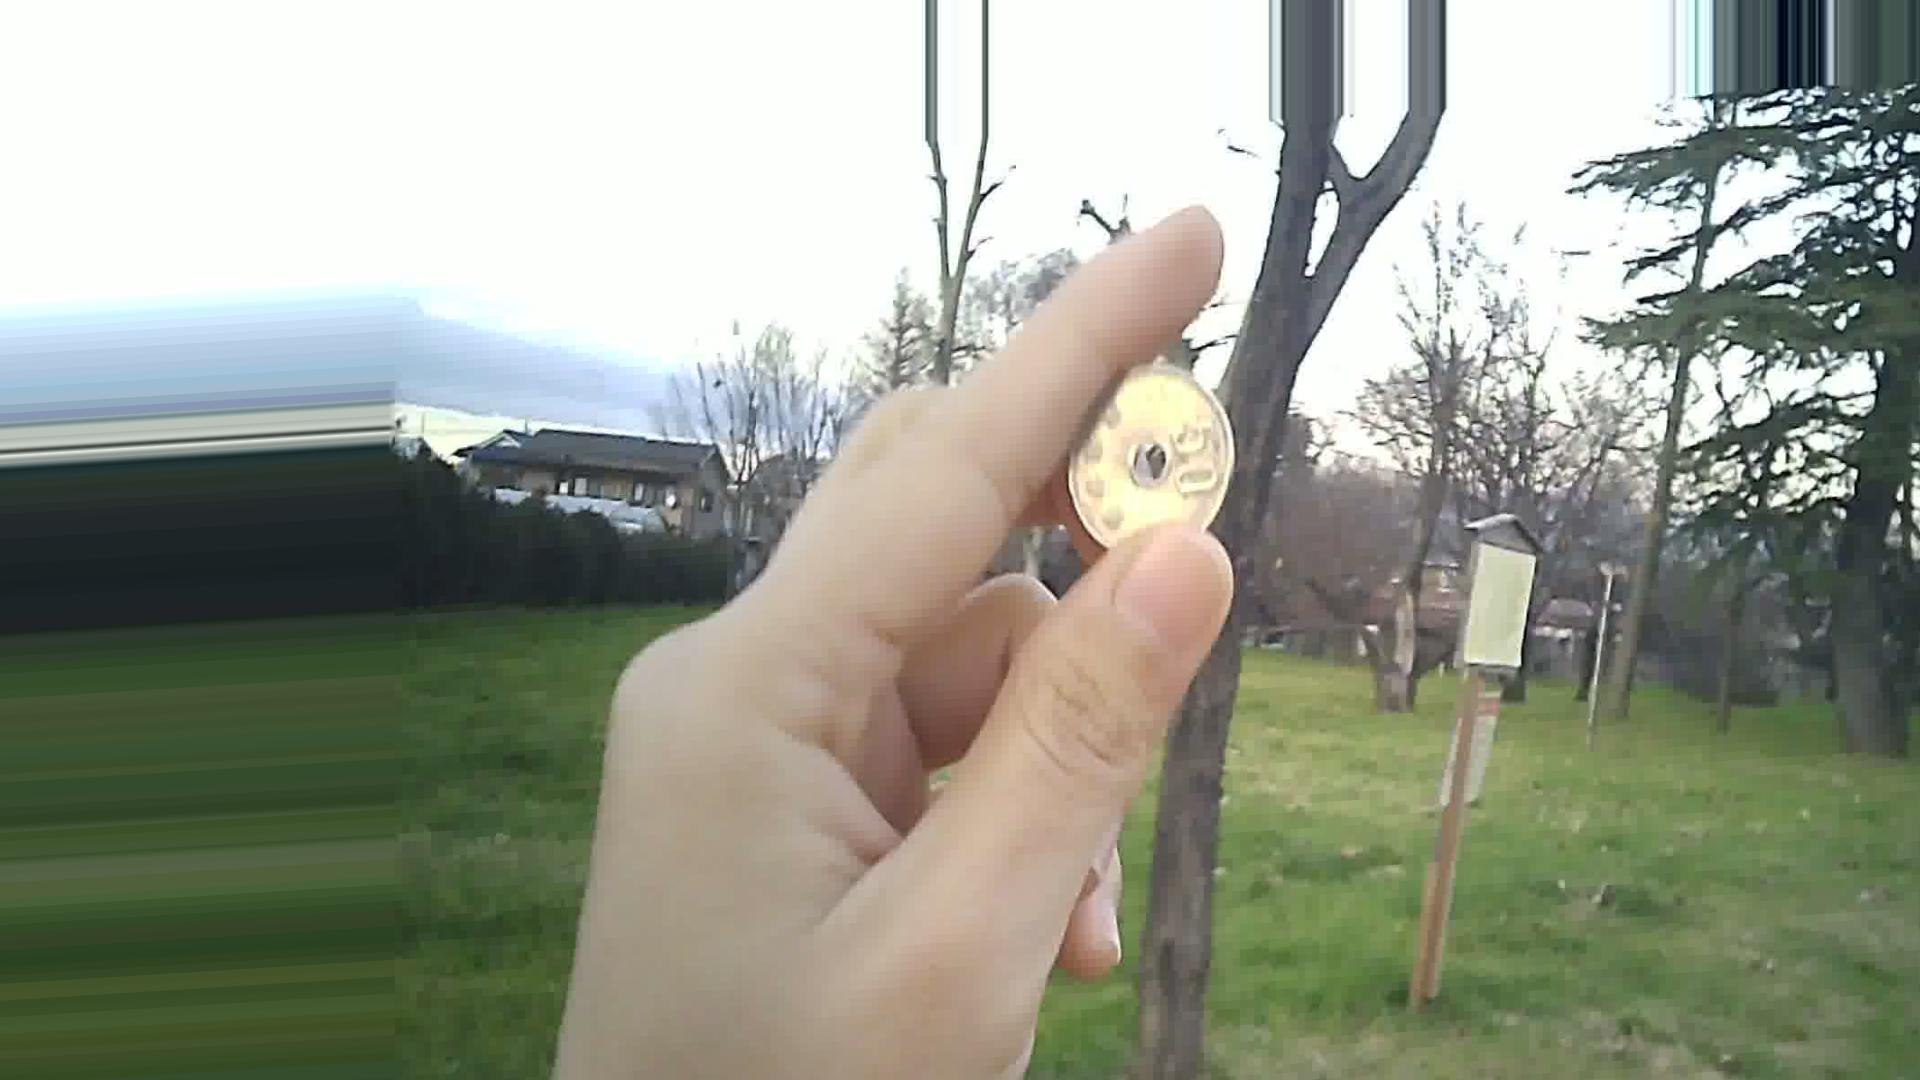50 Yen: (1056, 347, 1247, 553)
